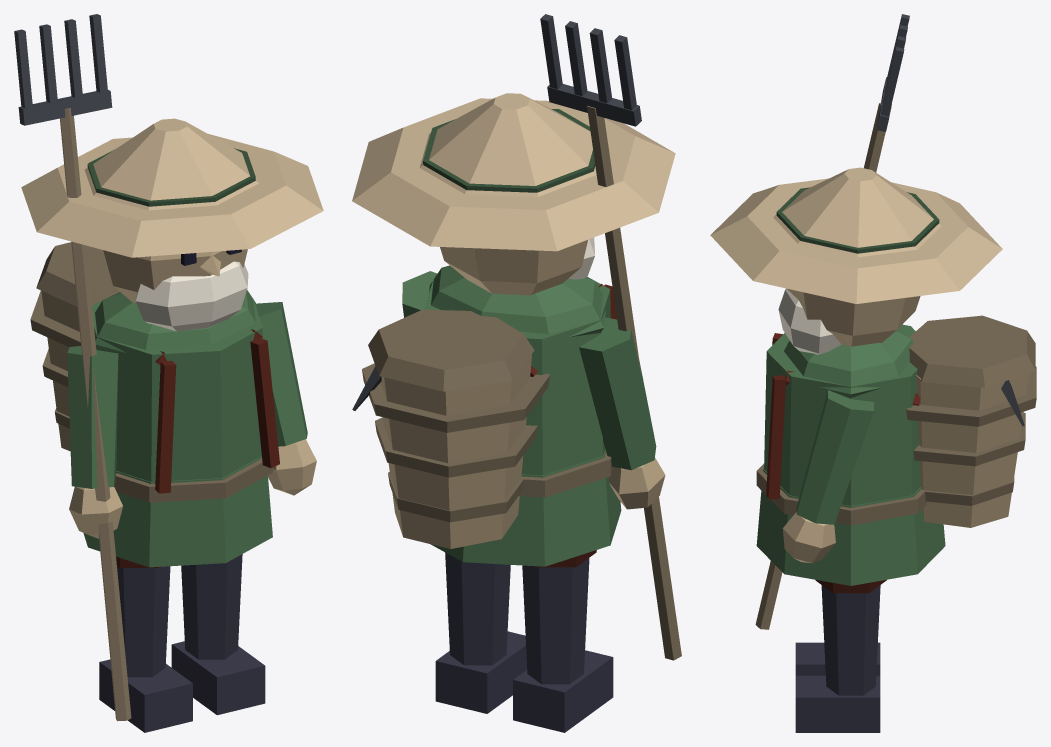
File: corran_nocord.glb
3 renders of one model, left to right at view 1: azimuth 30°, elevation 25°; view 2: azimuth 150°, elevation 25°; view 3: azimuth 270°, elevation 25°, orthographic. The views are drawn at different scales.
Parts seen in each view (by area): view 1: Torso, Head, ArmR, LegL, LegR, ArmL; view 2: Torso, Head, ArmR, LegR, LegL, ArmL; view 3: Torso, Head, LegL, ArmL, ArmR, LegR.
Part boxes in pixels (box(x1,y1,x2,y2)): Torso: box(30, 242, 279, 567); Head: box(21, 118, 323, 331); ArmR: box(14, 14, 131, 721); LegL: box(171, 554, 265, 715); LegR: box(99, 556, 192, 732); ArmL: box(257, 302, 316, 495); Torso: box(352, 265, 621, 566); Head: box(352, 93, 675, 295); ArmR: box(540, 14, 681, 660); LegR: box(513, 550, 613, 732); LegL: box(435, 552, 527, 713); ArmL: box(402, 271, 437, 317); Torso: box(756, 315, 1036, 585); Head: box(710, 167, 1002, 354); LegL: box(795, 579, 886, 732); ArmL: box(782, 390, 874, 563); ArmR: box(755, 14, 909, 629); LegR: box(795, 642, 880, 675).
Bounding box in the file's own units: 0.9 × 2.14 × 1.
